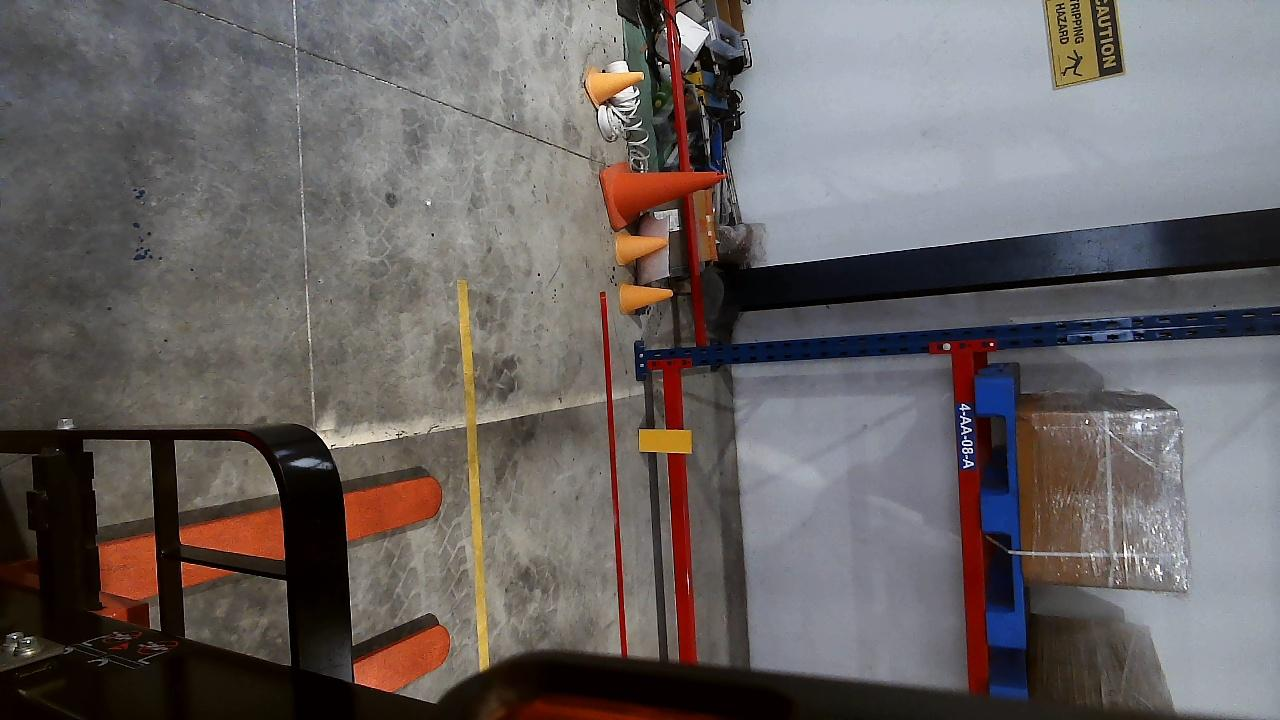h_rack: (950, 351, 989, 695), (664, 365, 696, 658)
orange_strip: (637, 428, 691, 453)
red_line: (598, 293, 627, 658)
small_pallet: (977, 377, 1026, 648)
yellow_line: (455, 280, 488, 668)
